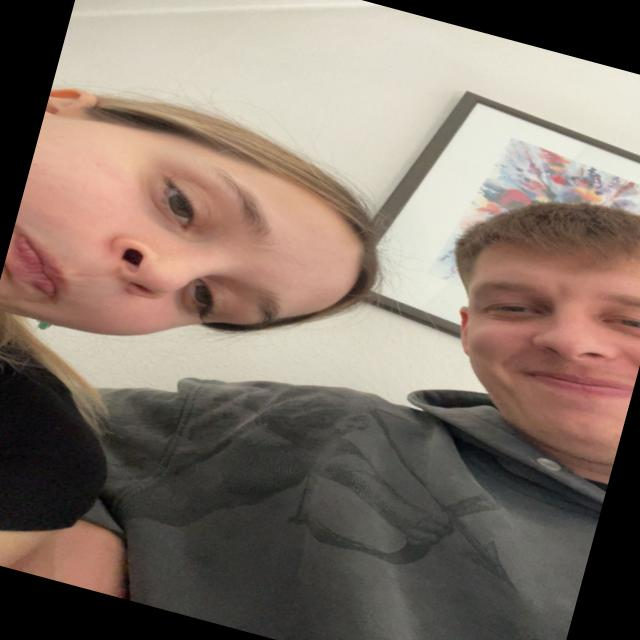JeremiasDiaz: (413, 167, 640, 472)
face: (0, 80, 418, 412)
